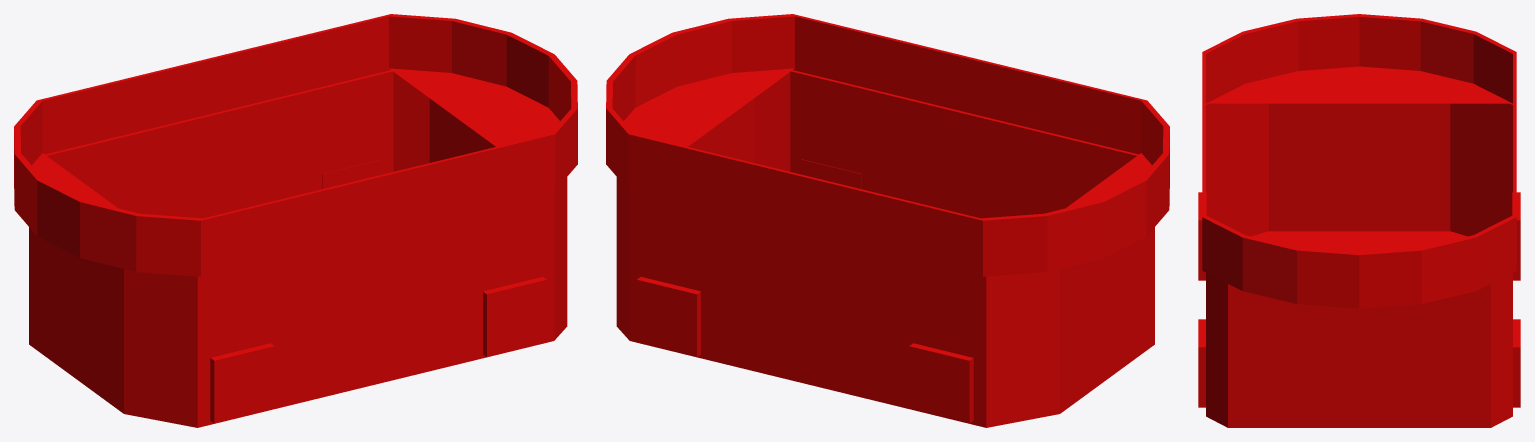
The model's file is chassis.dae.
3 views of the same model, side by side, from view 1: azimuth 30°, elevation 25°; view 2: azimuth 150°, elevation 25°; view 3: azimuth 270°, elevation 25° (orthographic). The views are drawn at different scales.
Visible parts, largest first — view 1: base_link; view 2: base_link; view 3: base_link.
Boxes of the visible parts, left/top/right/bottom form: base_link: left=14, top=14, right=577, bottom=427; base_link: left=606, top=14, right=1169, bottom=427; base_link: left=1198, top=14, right=1520, bottom=427.
Bounding box in the file's own units: 0.4972 × 0.2807 × 0.1913.
